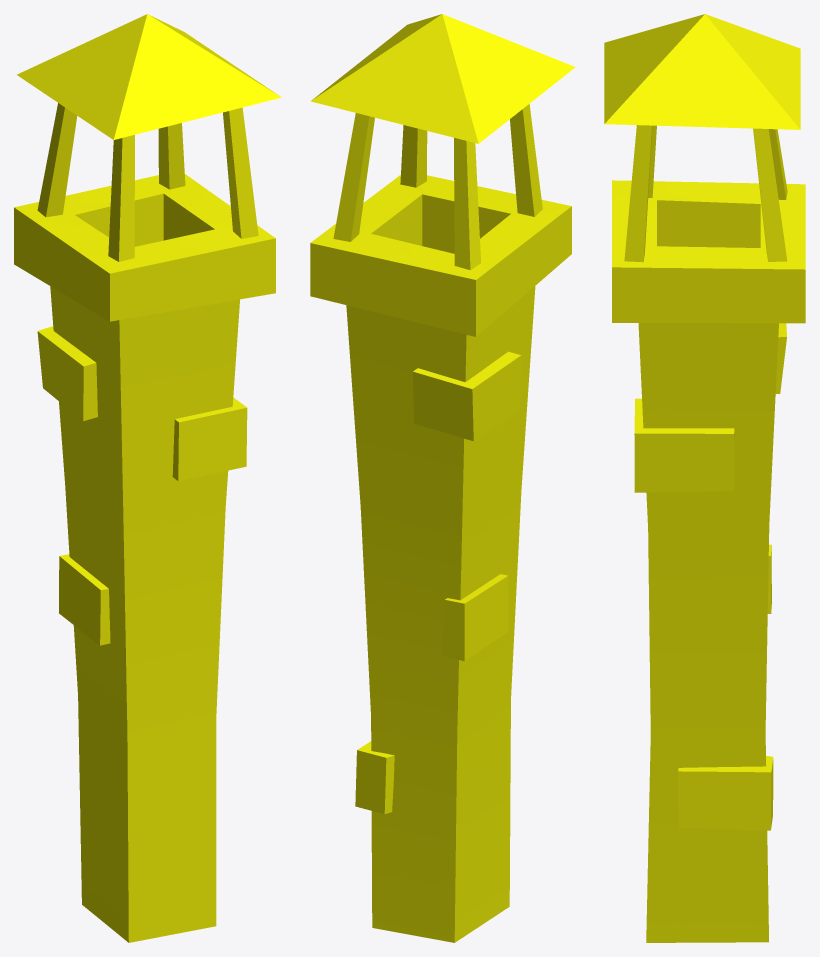
The model's file is SM_BLD_chimney_v01_03.glb.
3 views of the same model, side by side, from view 1: azimuth 30°, elevation 25°; view 2: azimuth 150°, elevation 25°; view 3: azimuth 270°, elevation 25° (orthographic).
Visible parts, largest first — view 1: SM_BLD_chimney_v01_03; view 2: SM_BLD_chimney_v01_03; view 3: SM_BLD_chimney_v01_03.
Boxes of the visible parts, <box> form: SM_BLD_chimney_v01_03: <box>14,14,281,942</box>; SM_BLD_chimney_v01_03: <box>310,14,575,942</box>; SM_BLD_chimney_v01_03: <box>604,14,805,942</box>.
Bounding box in the file's own units: 1.44 × 7.38 × 1.48.
Materials: 2 (2 with a texture image).
